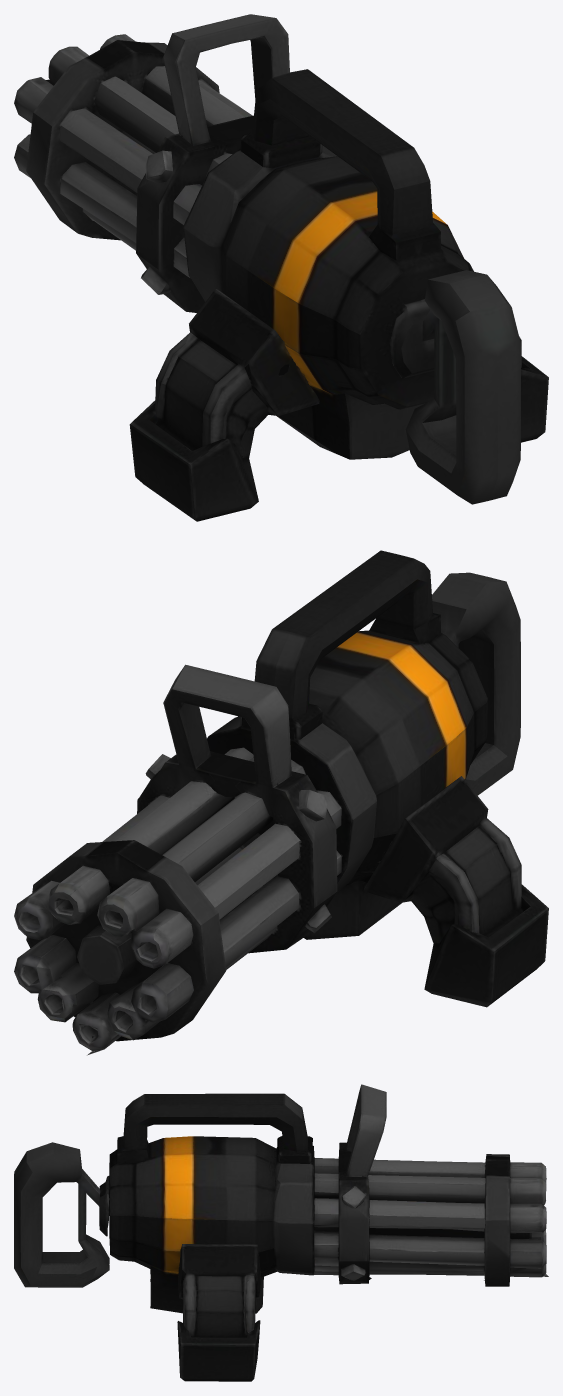
File: handheld_minigun_low.glb
3 renders of one model, top to bottom at view 1: azimuth 30°, elevation 25°; view 2: azimuth 150°, elevation 25°; view 3: azimuth 270°, elevation 25°, orthographic. The views are drawn at different scales.
Visible parts, largest first — view 1: world; view 2: world; view 3: world.
Boxes of the visible parts, left/top/right/bottom form: world: left=14, top=14, right=548, bottom=521; world: left=14, top=550, right=548, bottom=1055; world: left=14, top=1084, right=548, bottom=1381.
Bounding box in the file's own units: 0.5163 × 0.4761 × 1.01.
1 material, 1 textured.
